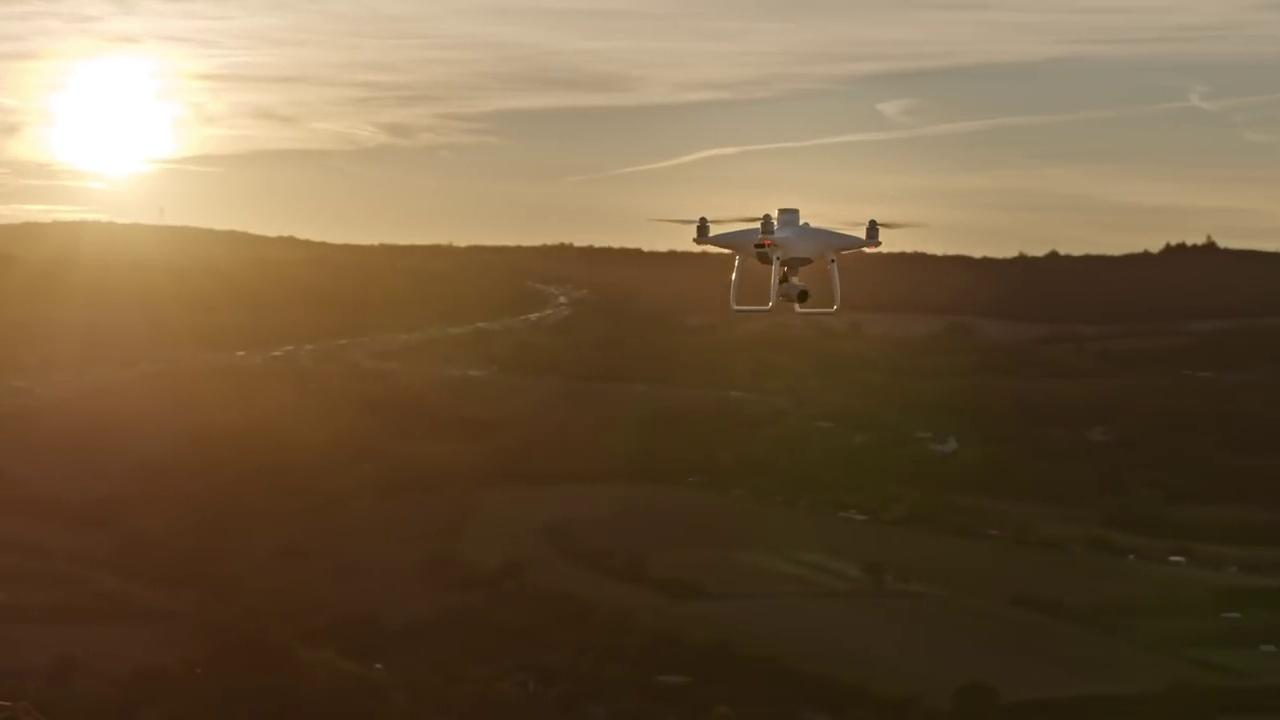drone: (641, 205, 937, 322)
